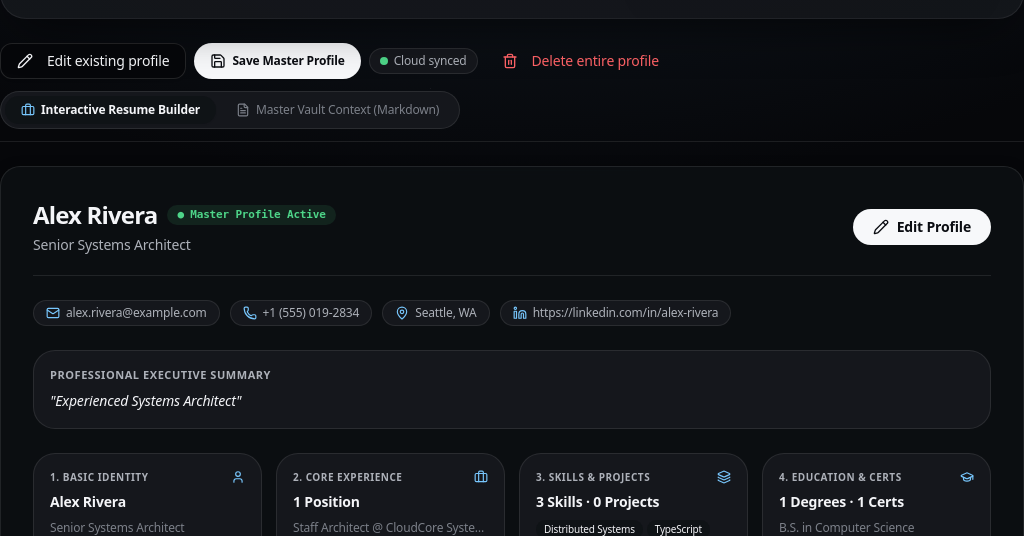
it: ProfileBuilderView - Progressive Disclosure › allows stepping through from Step 1 to Step 4 and saving changes
Later steps or results of the test are not shown.
(page scrolled)
Enter edit mode
Click the button "Edit Profile": (922, 227) top-left (853, 209), bottom-right (991, 245)
(page scrolled)
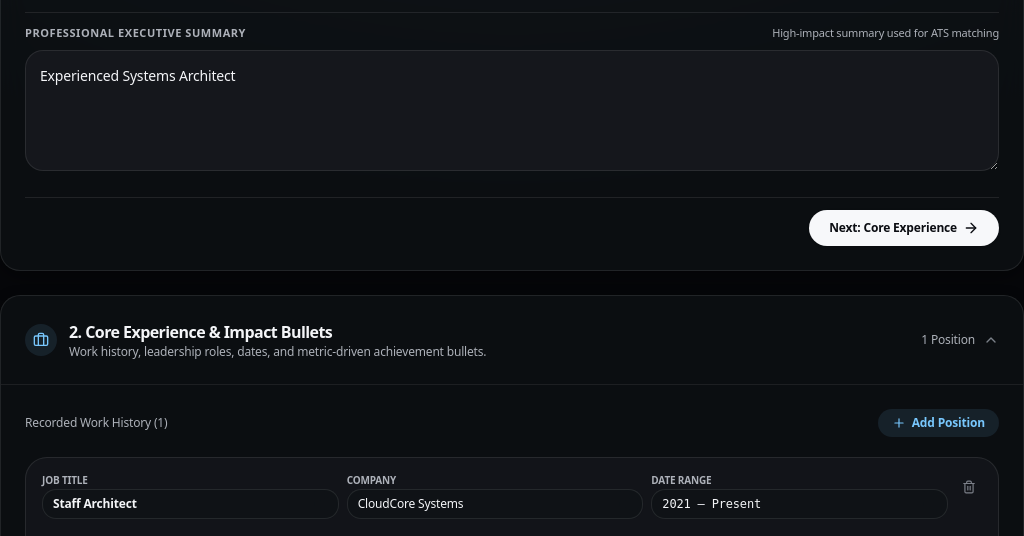
Click Next: Core Experience
Click the button "Next: Core Experience": (904, 228) top-left (809, 210), bottom-right (999, 246)
(page scrolled)
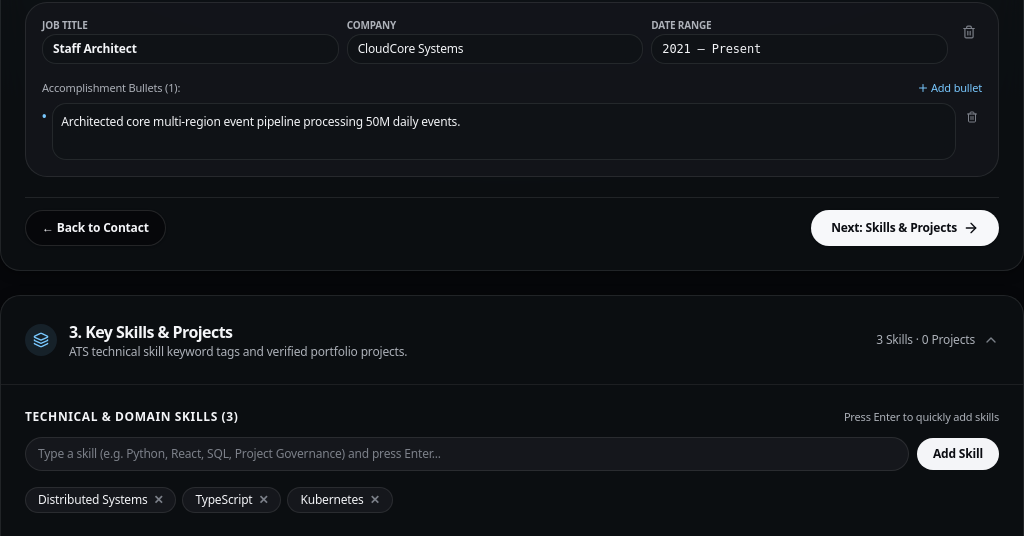
Click Next: Skills & Projects
Click the button "Next: Skills & Projects": (905, 228) top-left (811, 210), bottom-right (999, 246)
Add a new skill in Step 3
Replace the text in the field with placeholder "Type a skill" with "Rust": (467, 454) top-left (25, 437), bottom-right (909, 471)
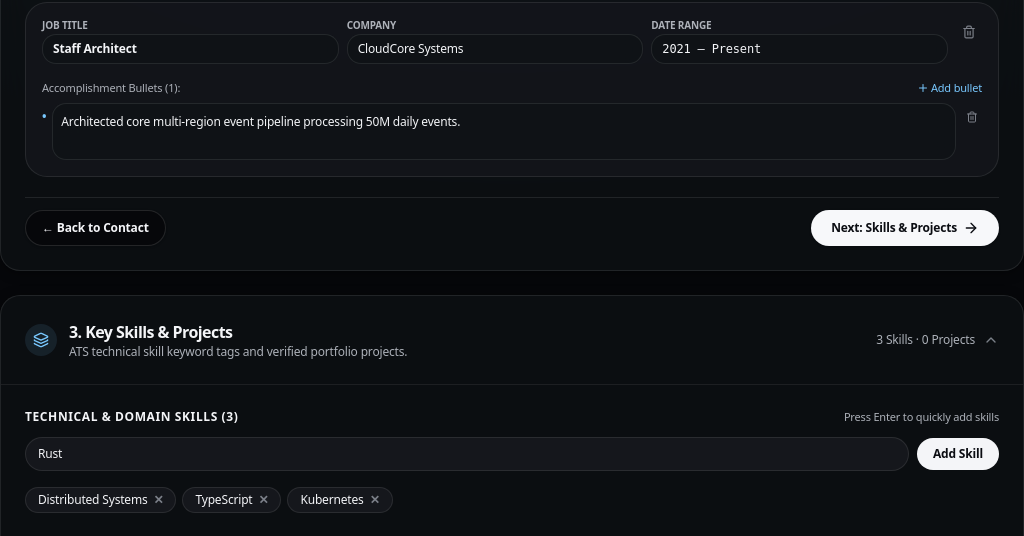
Click the button "Add Skill": (958, 454) top-left (917, 438), bottom-right (999, 470)
(page scrolled)
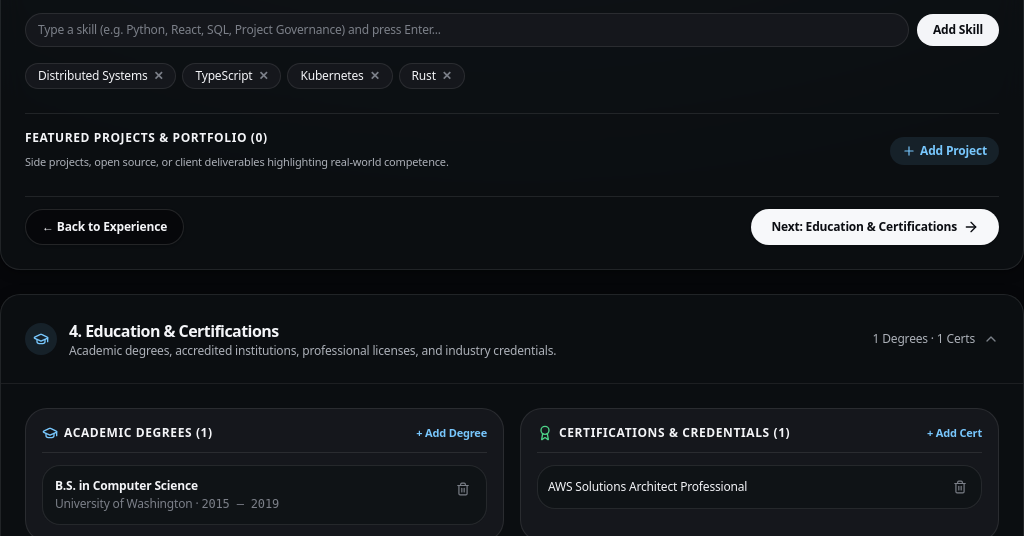
Check: the text "Rust" is shown, box top-left (412, 68), bottom-right (436, 84)
